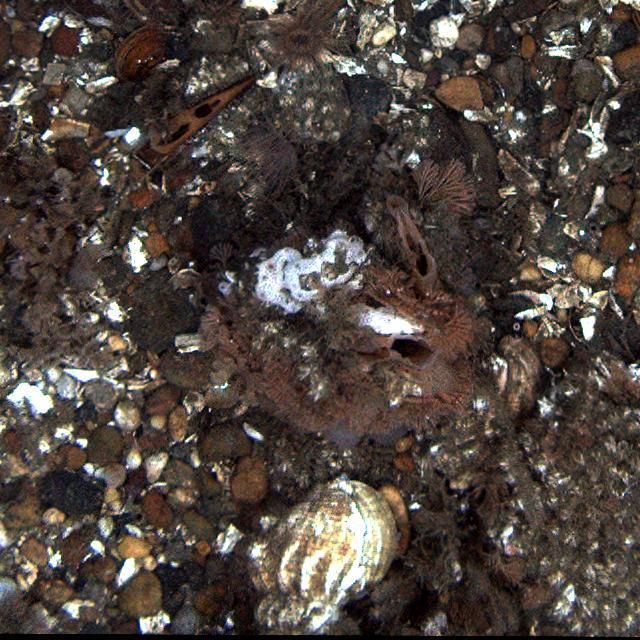whelk: (254, 483, 372, 636)
